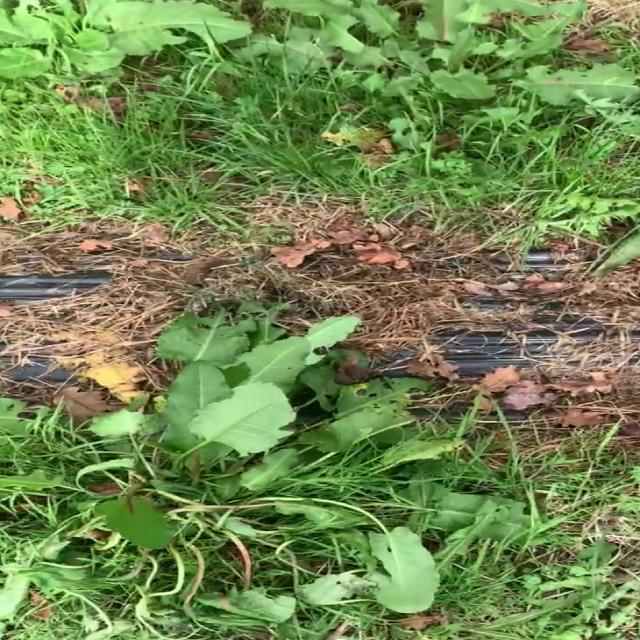organic waste: (8, 298, 534, 640), (273, 0, 640, 137), (0, 0, 278, 123)
